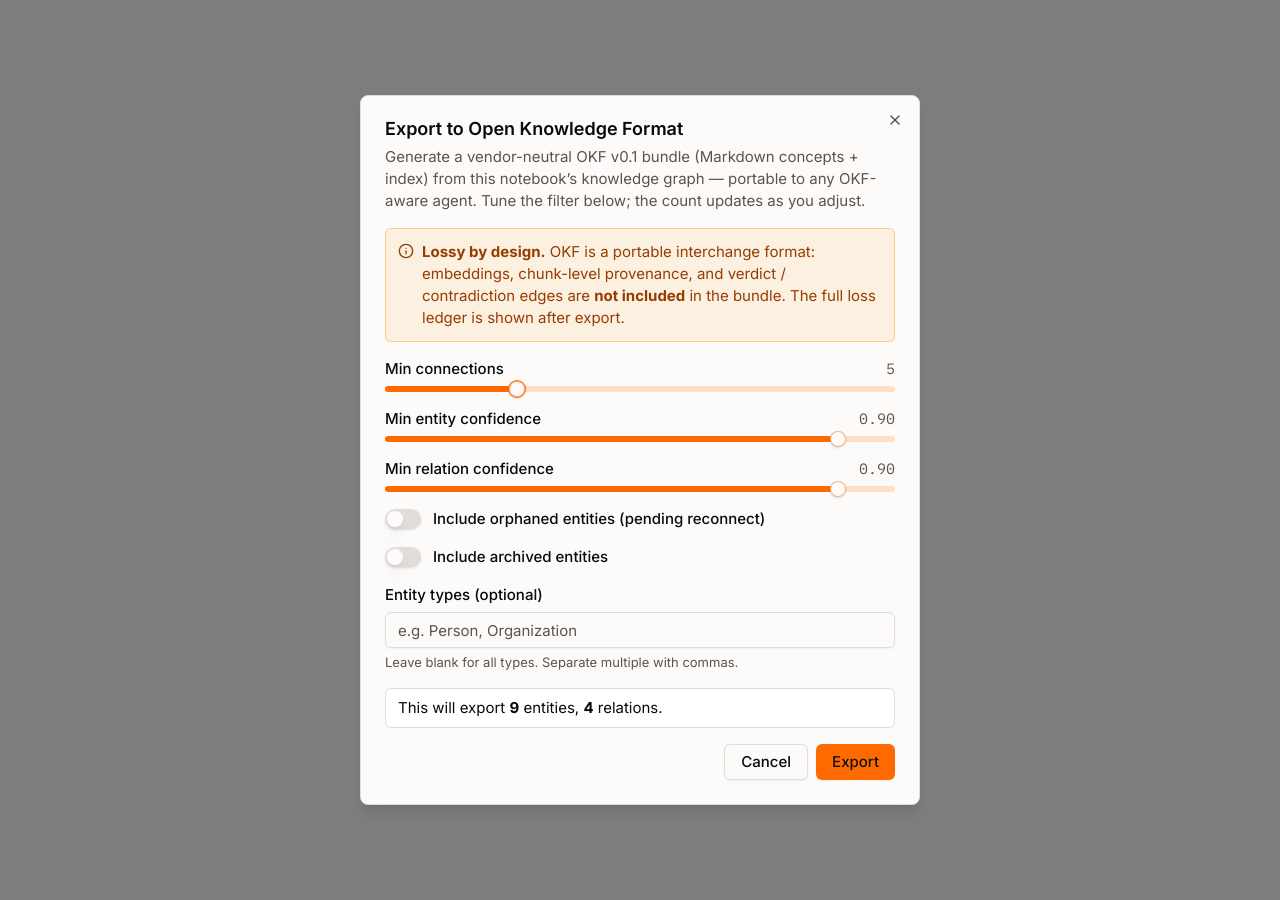
Test: OkfExportDialog — success surfaces the omitted-field ledger (AC3) › renders the itemised ledger returned by the export
Click the button with test id "okf-export-submit" at {"x": 856, "y": 762}, box [816, 744, 895, 780]
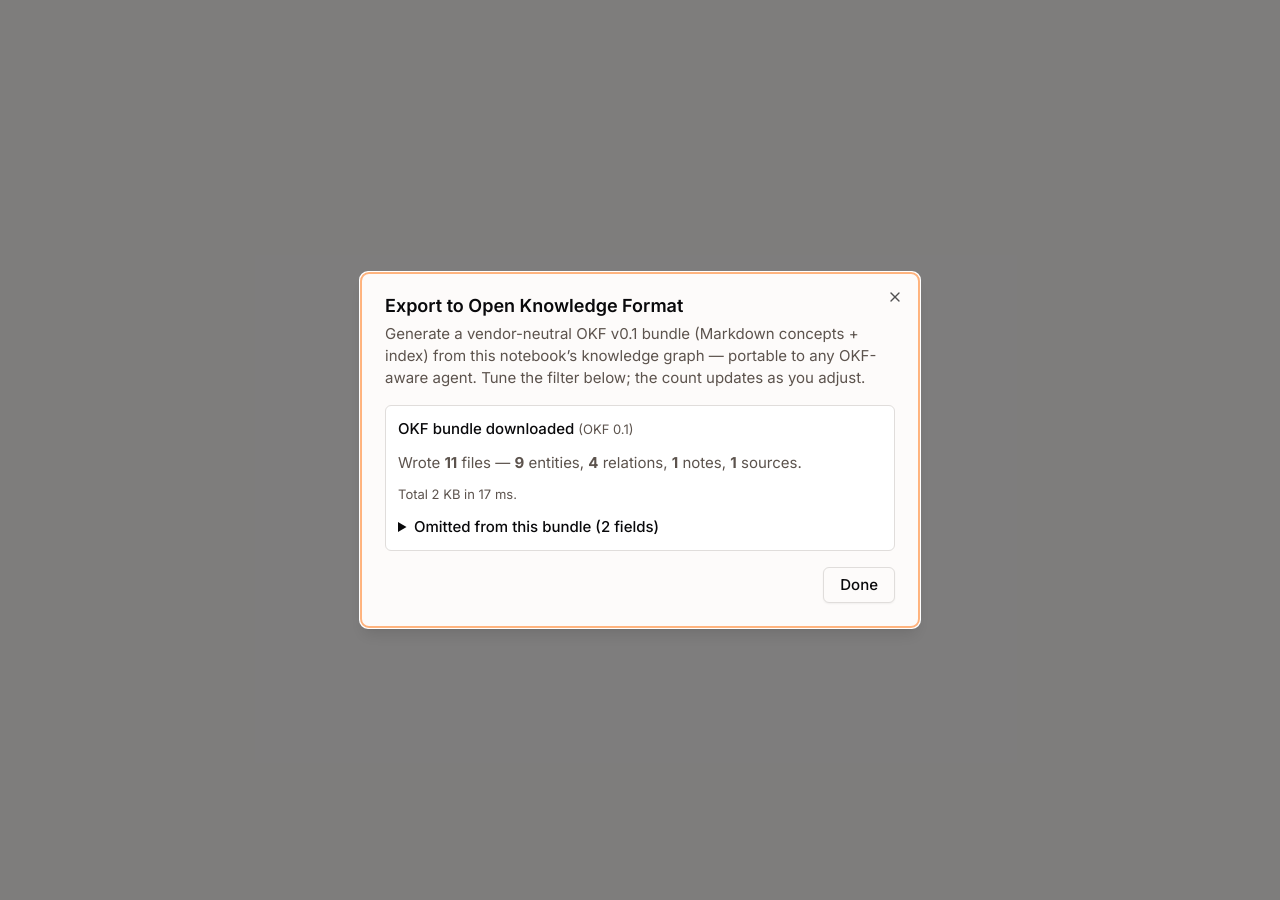
Check: the element with test id "okf-export-success" is shown, box [385, 405, 895, 551]
Check: the button with test id "okf-export-submit" is gone
Check: the button with test id "okf-export-cancel" reads "Done", box [823, 567, 895, 603]
